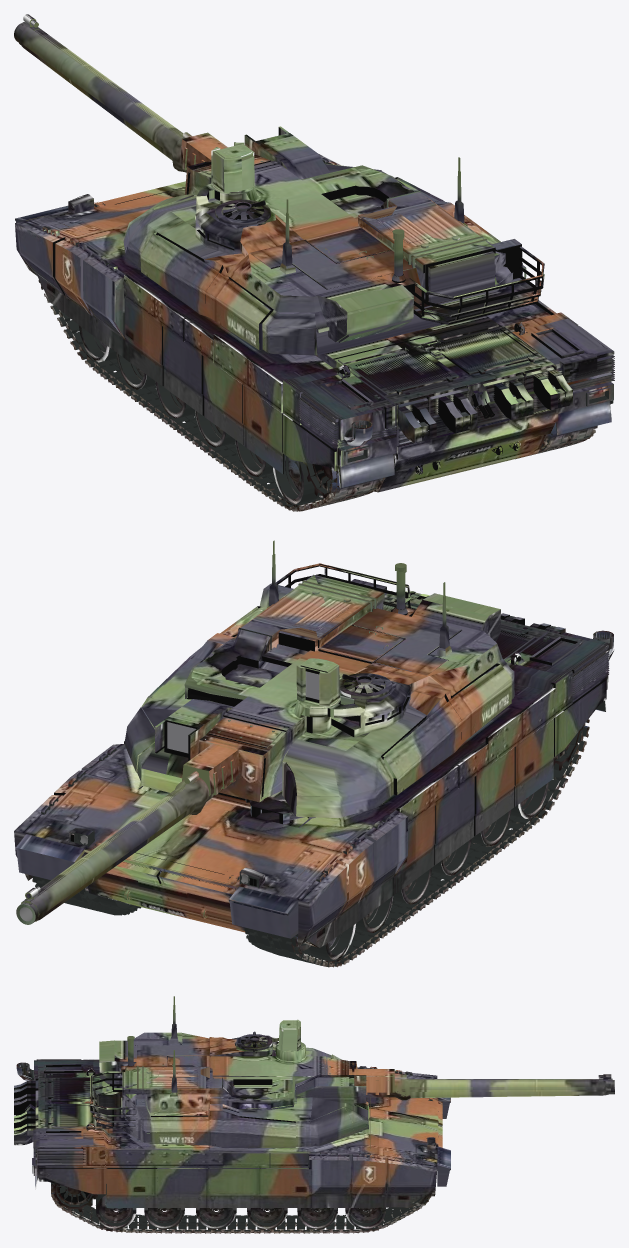
The model's file is leclerc.glb.
3 views of the same model, one above another, from view 1: azimuth 30°, elevation 25°; view 2: azimuth 150°, elevation 25°; view 3: azimuth 270°, elevation 25° (orthographic). The views are drawn at different scales.
Parts seen in each view (by area): view 1: V_leclerc__Body_6, V_leclerc__Turret_2, V_leclerc__Gun_1, V_leclerc__Body_8, V_leclerc__Turret_1, V_leclerc__Body_2, V_leclerc__Body_7; view 2: V_leclerc__Body_6, V_leclerc__Turret_2, V_leclerc__Gun_1, V_leclerc__Body_8, V_leclerc__Turret_1, V_leclerc__Body_7, V_leclerc__Body_2, V_leclerc__Turret_4; view 3: V_leclerc__Body_6, V_leclerc__Turret_2, V_leclerc__Gun_1, V_leclerc__Body_7, V_leclerc__Body_8, V_leclerc__Body_2, V_leclerc__Turret_1.
Boxes of the visible parts, box(x1,y1,x2,y2) form: V_leclerc__Body_6: box(15, 154, 614, 511); V_leclerc__Turret_2: box(123, 126, 544, 355); V_leclerc__Gun_1: box(14, 14, 227, 172); V_leclerc__Body_8: box(43, 289, 525, 503); V_leclerc__Turret_1: box(156, 127, 543, 355); V_leclerc__Body_2: box(53, 187, 610, 486); V_leclerc__Body_7: box(44, 160, 614, 507); V_leclerc__Body_6: box(14, 579, 613, 967); V_leclerc__Turret_2: box(124, 540, 514, 818); V_leclerc__Gun_1: box(16, 743, 238, 924); V_leclerc__Body_8: box(32, 782, 548, 966); V_leclerc__Turret_1: box(155, 563, 499, 815); V_leclerc__Body_7: box(41, 632, 611, 945); V_leclerc__Body_2: box(54, 592, 605, 888); V_leclerc__Turret_4: box(167, 671, 319, 753); V_leclerc__Body_6: box(14, 1059, 450, 1233); V_leclerc__Turret_2: box(90, 996, 369, 1147); V_leclerc__Gun_1: box(356, 1069, 614, 1100); V_leclerc__Body_7: box(18, 1063, 435, 1230); V_leclerc__Body_8: box(108, 1153, 428, 1231); V_leclerc__Body_2: box(14, 1064, 428, 1202); V_leclerc__Turret_1: box(90, 1034, 297, 1145).
Bounding box in the file's own units: 9.73 × 8.29 × 26.49.
24 materials, 11 textured.
